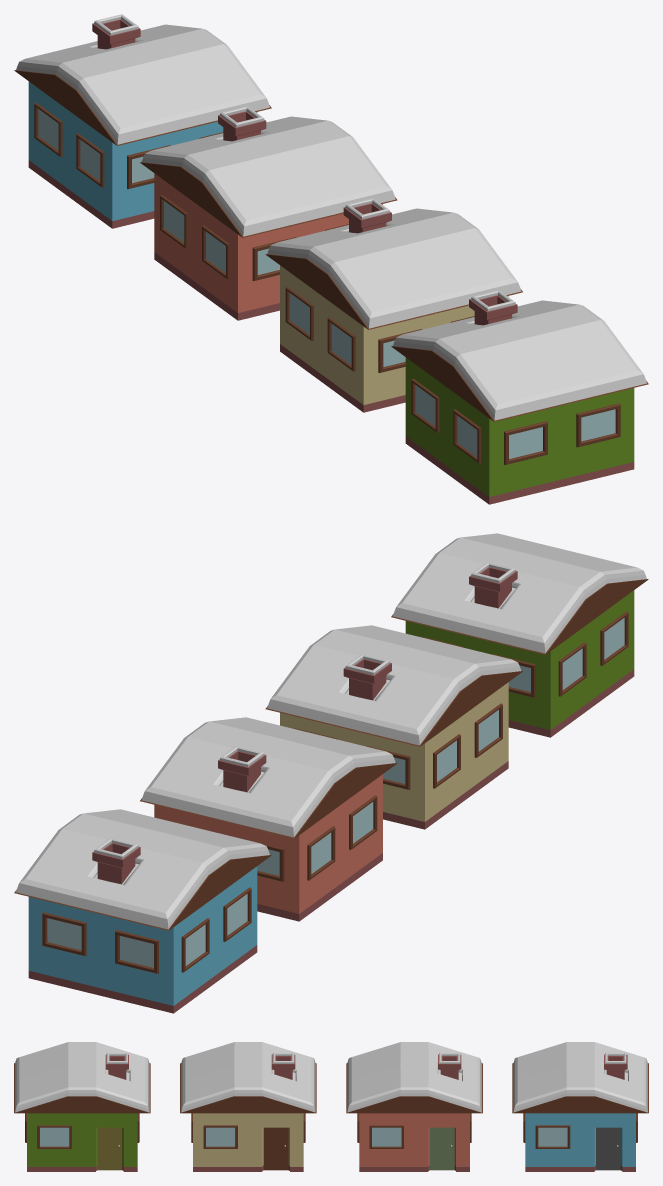
Rendered from Houses.fbx.
The picture shows the model from 3 angles, top to bottom: view 1: azimuth 30°, elevation 25°; view 2: azimuth 150°, elevation 25°; view 3: azimuth 270°, elevation 25°; orthographic projection. The views are drawn at different scales.
Parts seen in each view (by area): view 1: Cube.020, Cube.018, Cube.019, Cube.021; view 2: Cube.018, Cube.020, Cube.021, Cube.019; view 3: Cube.021, Cube.019, Cube.020, Cube.018.
Part boxes in pixels (x1,y1,x2,y2): Cube.020: (391, 290, 648, 504); Cube.018: (14, 14, 271, 228); Cube.019: (140, 106, 397, 320); Cube.021: (265, 198, 522, 412); Cube.018: (14, 809, 271, 1013); Cube.020: (391, 533, 648, 737); Cube.021: (265, 625, 522, 829); Cube.019: (140, 717, 397, 921); Cube.021: (180, 1042, 316, 1171); Cube.019: (346, 1042, 482, 1171); Cube.020: (14, 1042, 150, 1171); Cube.018: (512, 1042, 648, 1171).
Bounding box in the file's own units: 640 × 546 × 3440.
